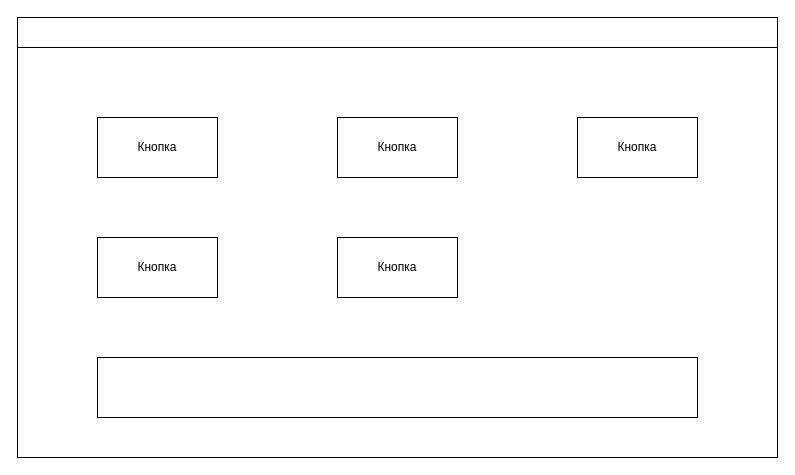
This 795x475 diagram has some shape labels left out. The box of each missing label's shape, as (x1, y1, x2, y2) in pixels:
Кнопка выхода: (96, 356, 698, 418)
Текст приветствия пользователя: (16, 16, 778, 48)
